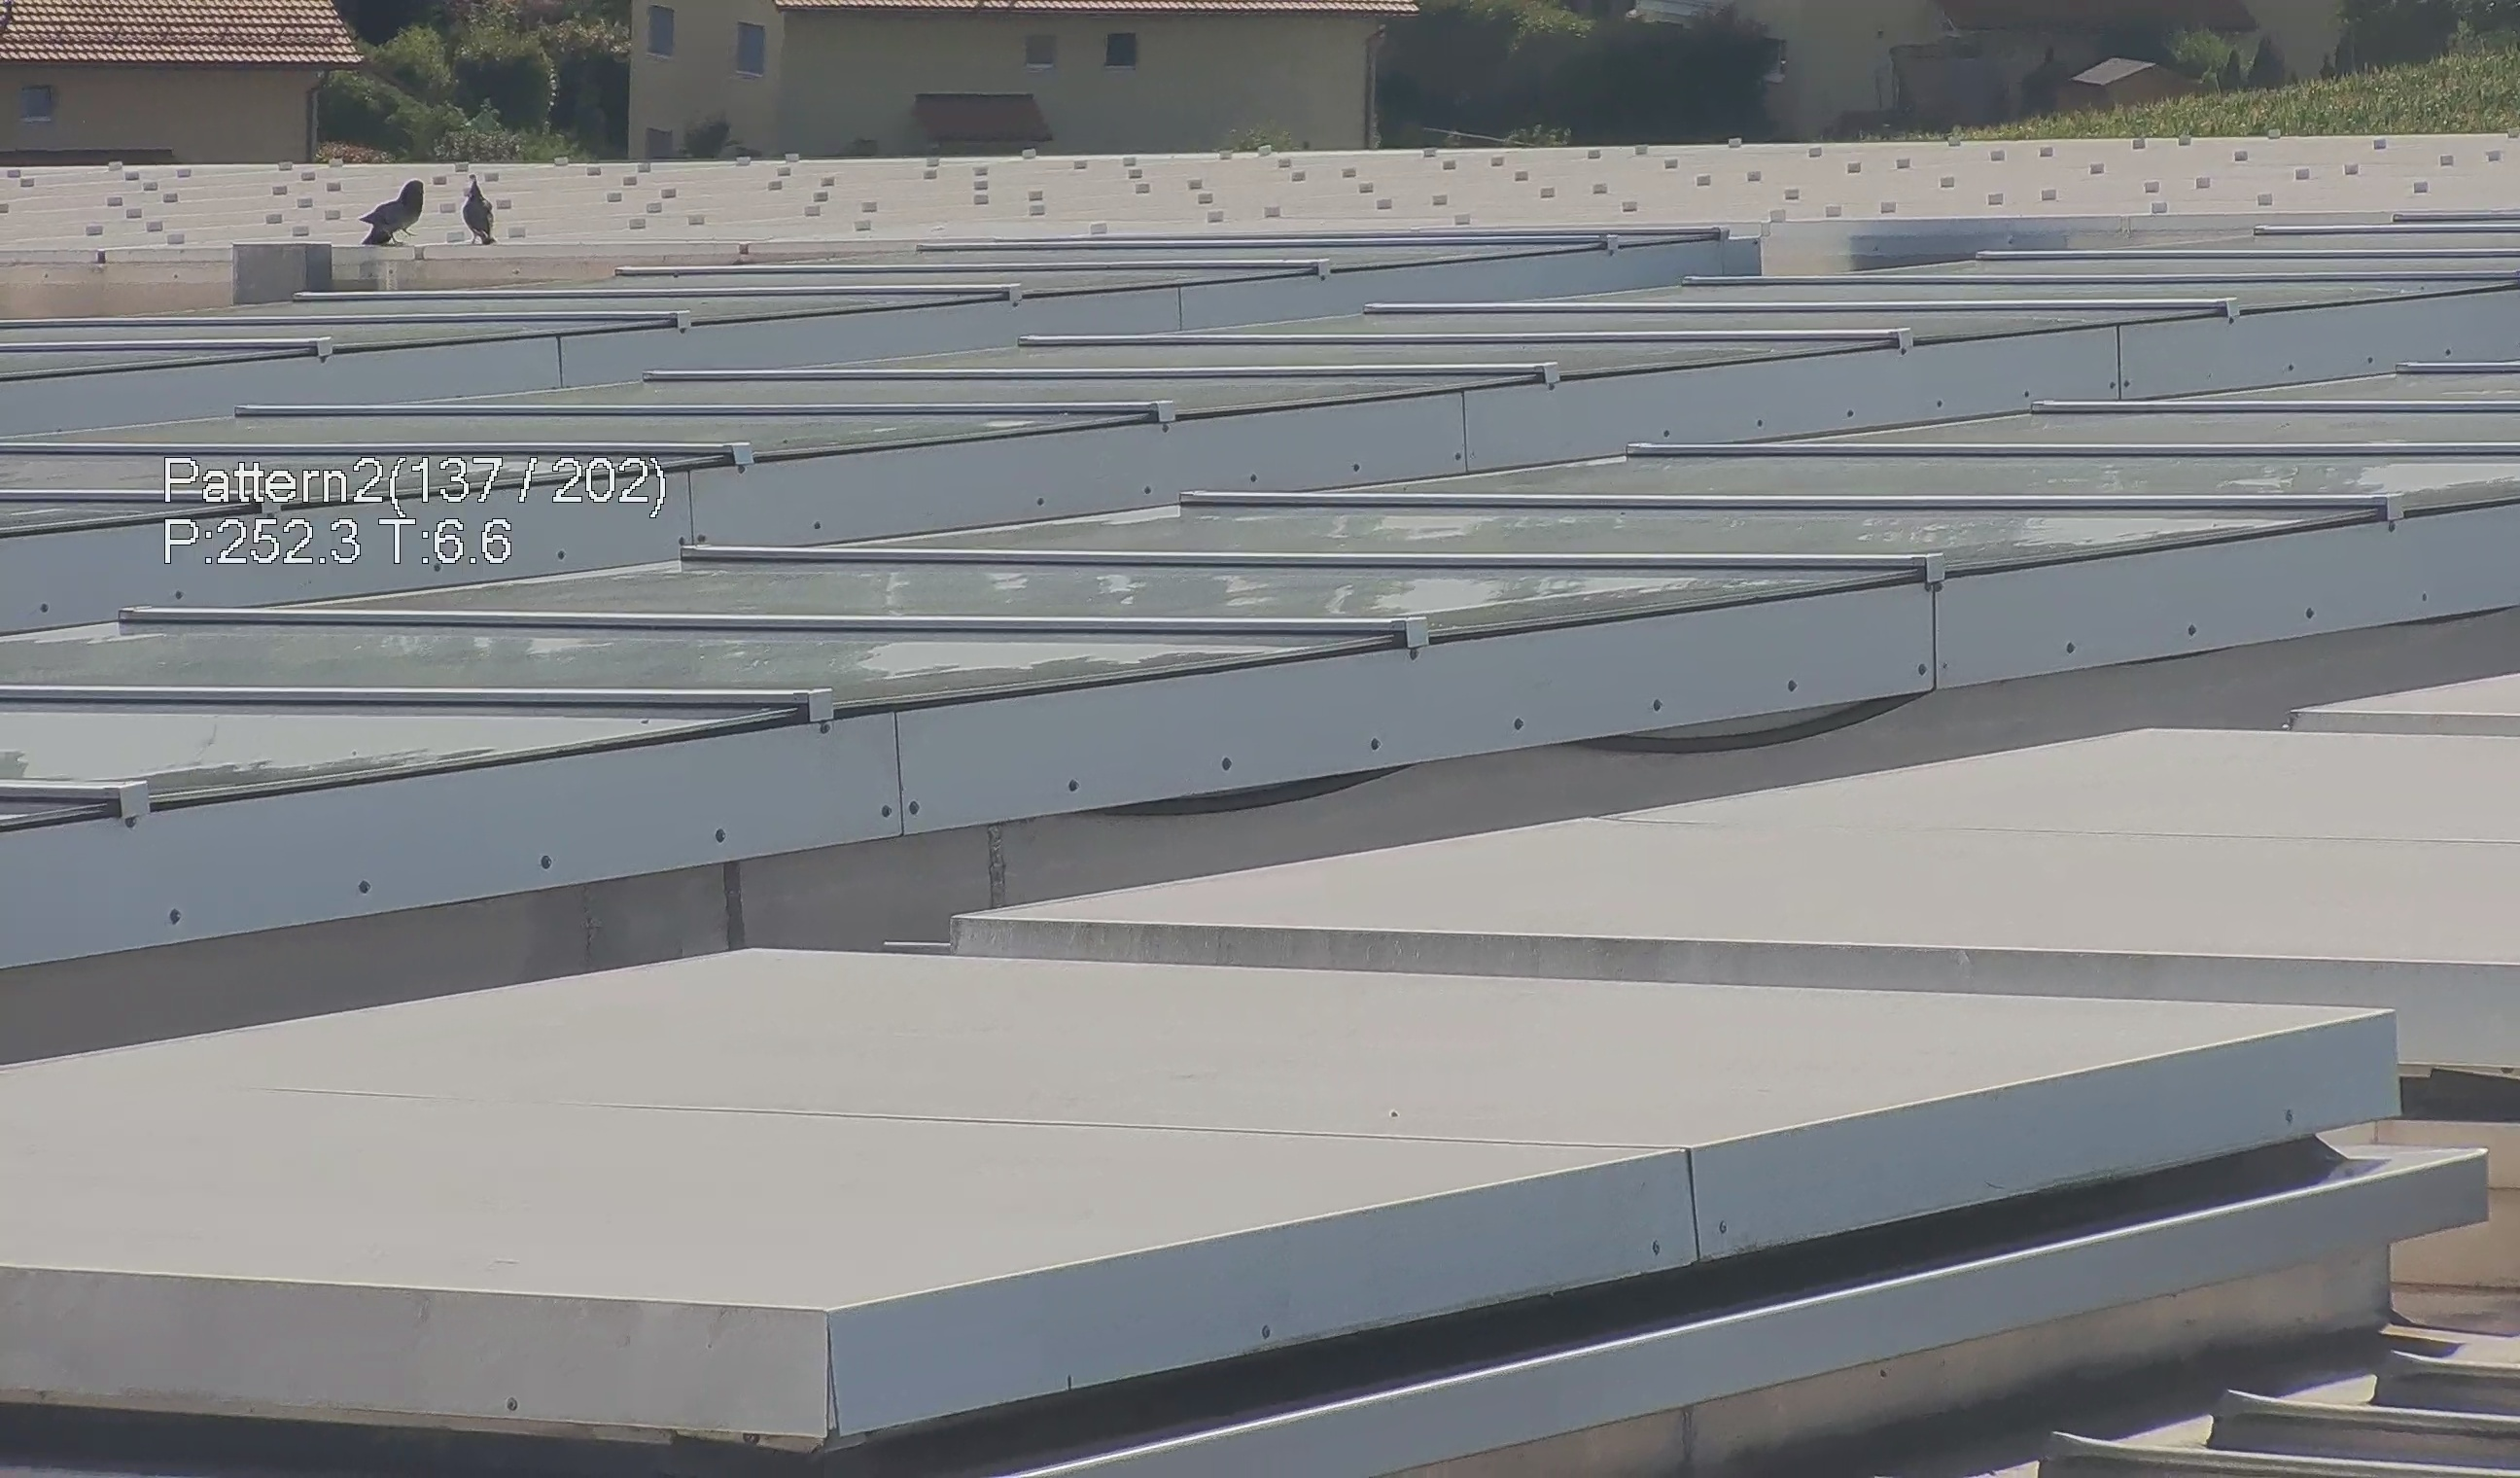Pigeon: (345, 165, 422, 243), (455, 167, 503, 253)
